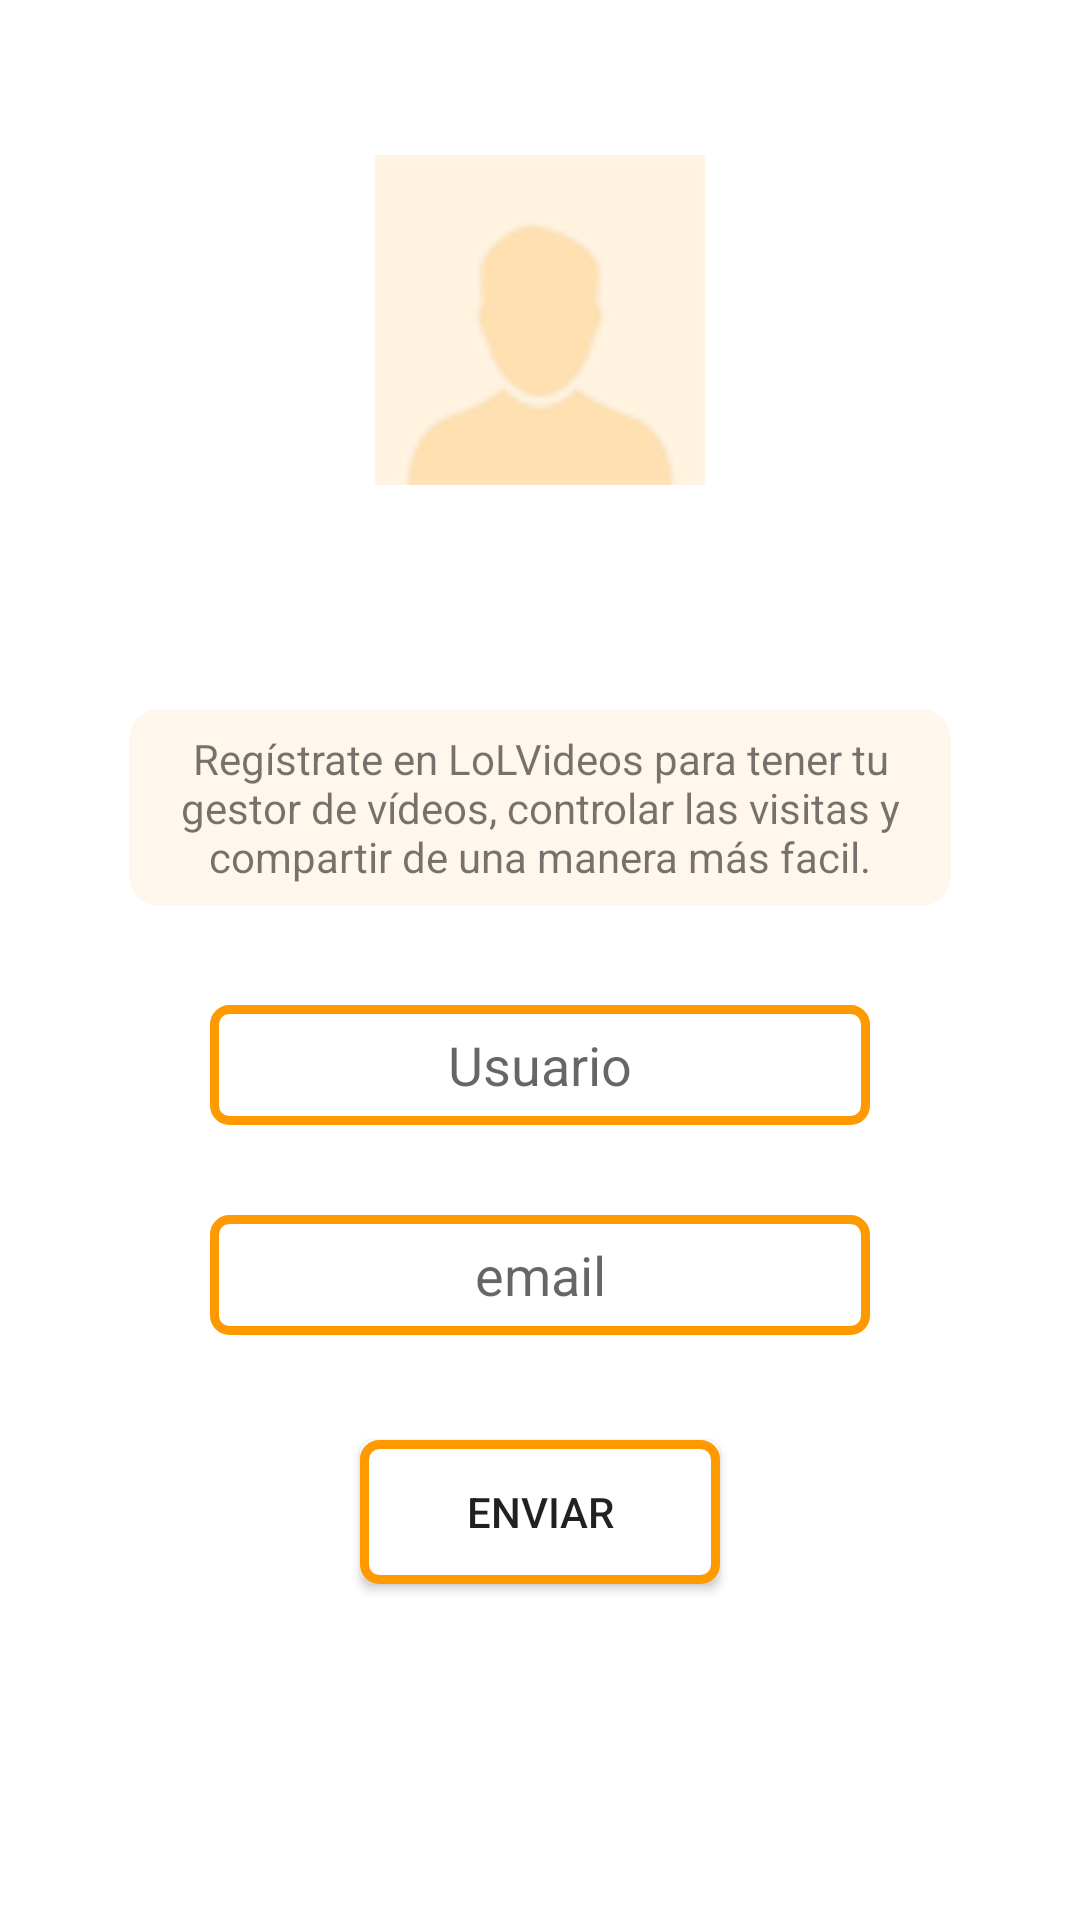

Icons on this 1080px×1920px Android screen, each with the point to tap as (x,y):
profile: (540,320)
